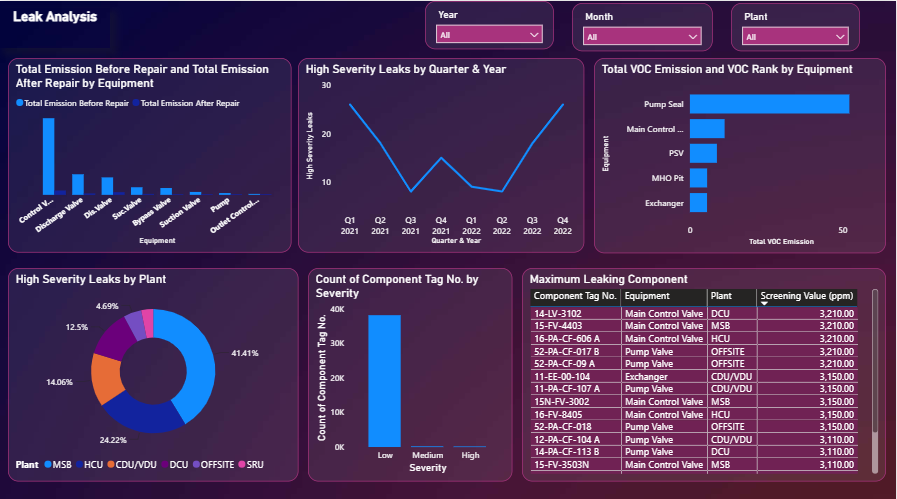

Layout of this report page (visuals, bound fields, positions):
{"tool":"powerbi","page":{"name":"Leak Analysis","canvas":[1280,720],"ordinal":1},"visuals":[{"type":"clusteredBarChart","fields":{"Category":["Plant_Data.Equipment"],"Y":["Measures_List.Total VOC Emission"]},"box":[438,80.8,399.7,279.2],"z":0},{"type":"donutChart","fields":{"Category":["Plant_Data.Equipment"],"Y":["Measures_List.Total VOC Emission"]},"box":[11.3,80.8,415.3,279.2],"z":1001},{"type":"textbox","title":"Leak Analysis","box":[0,9.9,157.3,56.7],"z":1002},{"type":"pieChart","fields":{"Category":["Plant_Data.Plant"],"Y":["Measures_List.Leak %"]},"box":[11.3,381.3,415.3,304.7],"z":1003},{"type":"clusteredBarChart","fields":{"Category":["Plant_Data.Equipment"],"Y":["Measures_List.Total VOC Emission"]},"box":[849,80.8,416.7,279.2],"z":1004},{"type":"columnChart","fields":{"Category":["Plant_Data.Severity"],"Y":["CountNonNull(Plant_Data.Component Tag No.)"]},"box":[440.1,381.3,292,304.7],"z":1005},{"type":"tableEx","title":"Maximum Leaking Component","fields":{"Values":["Plant_Data.Component Tag No.","Plant_Data.Equipment","Plant_Data.Plant","Plant_Data.Screening Value (ppm)"]},"box":[745.5,381.3,520.2,304.7],"z":1006},{"type":"slicer","fields":{"Values":["Dates.Month Name"]},"box":[817.1,2.8,201.3,69.4],"z":1007},{"type":"slicer","fields":{"Values":["Dates.Year"]},"box":[606.6,0,184.3,69.4],"z":1008},{"type":"slicer","fields":{"Values":["Plant_Data.Plant"]},"box":[1044.6,2.8,184.3,69.4],"z":1009}]}

Visuals, with their boxes in screenshot pixels (x1, y1, x2, y2), scaled from the page's 1280x720 canvas onto the 897x499 screenshot:
clusteredBarChart - Plant_Data.Equipment x Measures_List.Total VOC Emission: 307:56:587:250
donutChart - Plant_Data.Equipment x Measures_List.Total VOC Emission: 8:56:299:250
"Leak Analysis" textbox: 0:7:110:46
pieChart - Plant_Data.Plant x Measures_List.Leak %: 8:264:299:475
clusteredBarChart - Plant_Data.Equipment x Measures_List.Total VOC Emission: 595:56:887:250
columnChart - Plant_Data.Severity x CountNonNull(Plant_Data.Component Tag No.): 308:264:513:475
"Maximum Leaking Component" tableEx: 522:264:887:475
slicer - Dates.Month Name: 573:2:714:50
slicer - Dates.Year: 425:0:554:48
slicer - Plant_Data.Plant: 732:2:861:50
